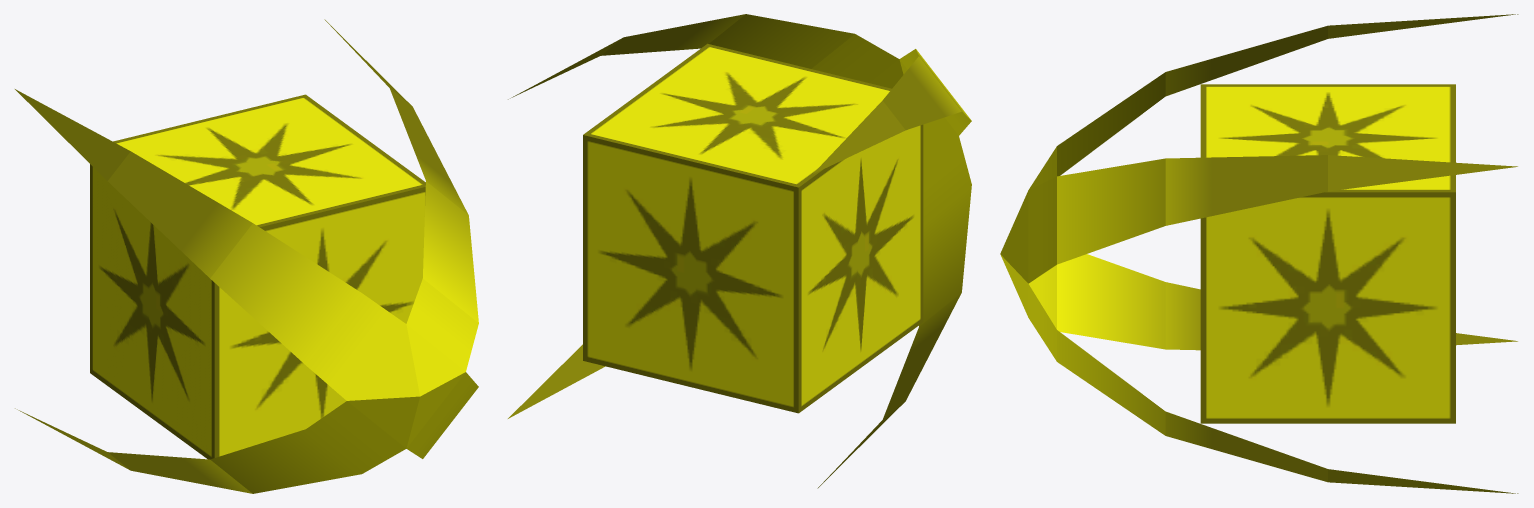
Rendered from godclient_space_spawn_generic.fbx.
The picture shows the model from 3 angles, left to right: view 1: azimuth 30°, elevation 25°; view 2: azimuth 150°, elevation 25°; view 3: azimuth 270°, elevation 25°; orthographic projection. The views are drawn at different scales.
Parts seen in each view (by area): view 1: mesh_node; view 2: mesh_node; view 3: mesh_node.
Part boxes in pixels (x1,y1,x2,y2): mesh_node: (15,19,478,493); mesh_node: (508,14,971,488); mesh_node: (1000,14,1518,493).
Bounding box in the file's own units: 14.14 × 14.14 × 20.35.
Materials: 1 (1 with a texture image).
